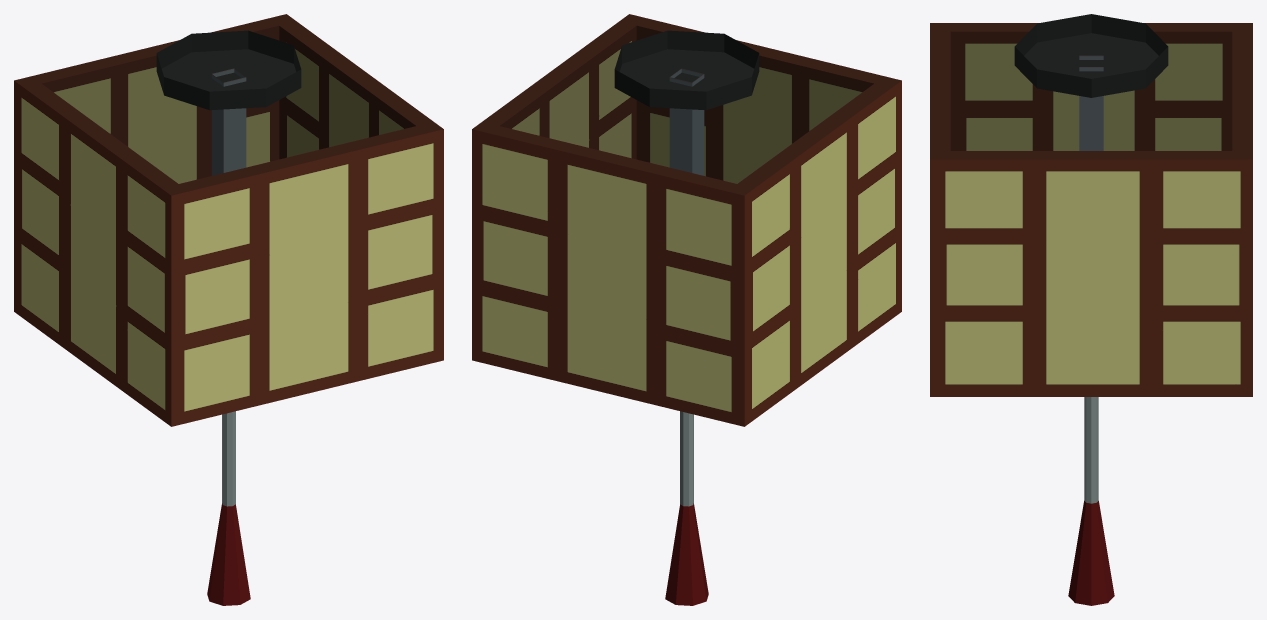
File: Japanese lamp.fbx
3 views of the same model, side by side, from view 1: azimuth 30°, elevation 25°; view 2: azimuth 150°, elevation 25°; view 3: azimuth 270°, elevation 25° (orthographic). The views are drawn at different scales.
Visible parts, largest first — view 1: Lamp; view 2: Lamp; view 3: Lamp.
Part boxes in pixels (x1=…): Lamp: x1=14, y1=14, x2=443, y2=605; Lamp: x1=472, y1=14, x2=901, y2=605; Lamp: x1=930, y1=14, x2=1252, y2=605.
Bounding box in the file's own units: 46.99 × 88.25 × 46.99.
